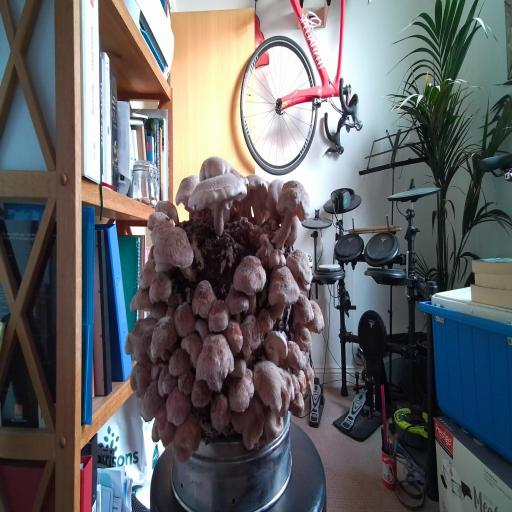Shiitake Mushroom: (171, 141, 265, 251), (247, 167, 327, 252), (177, 320, 251, 407), (233, 351, 313, 424), (223, 243, 277, 318), (155, 408, 217, 471), (224, 388, 276, 458), (213, 363, 271, 420), (259, 258, 306, 321), (278, 239, 325, 297), (120, 304, 160, 368), (128, 375, 175, 429), (181, 273, 225, 328), (140, 402, 184, 457), (148, 222, 199, 269), (215, 277, 261, 328), (229, 309, 270, 362), (136, 200, 181, 248), (142, 311, 182, 363), (172, 322, 213, 369), (160, 381, 196, 434), (119, 355, 159, 402), (197, 154, 252, 187), (255, 240, 296, 284), (240, 169, 271, 227), (150, 361, 185, 407), (218, 314, 252, 358), (205, 389, 235, 438), (173, 165, 202, 214), (131, 253, 164, 295), (301, 297, 332, 340), (148, 195, 187, 227), (280, 337, 309, 378), (171, 299, 198, 340), (164, 343, 193, 381), (260, 401, 286, 443), (158, 288, 187, 323), (264, 175, 285, 222), (142, 295, 174, 325), (284, 388, 311, 423), (207, 297, 231, 334), (264, 330, 288, 366), (298, 360, 321, 397), (189, 312, 216, 343), (148, 271, 173, 304), (175, 365, 197, 398), (284, 213, 303, 250), (255, 304, 276, 337), (191, 379, 212, 409), (294, 293, 314, 324), (129, 287, 152, 311), (295, 367, 311, 399), (294, 325, 312, 351), (256, 232, 270, 260), (289, 369, 302, 397), (230, 358, 247, 378)
